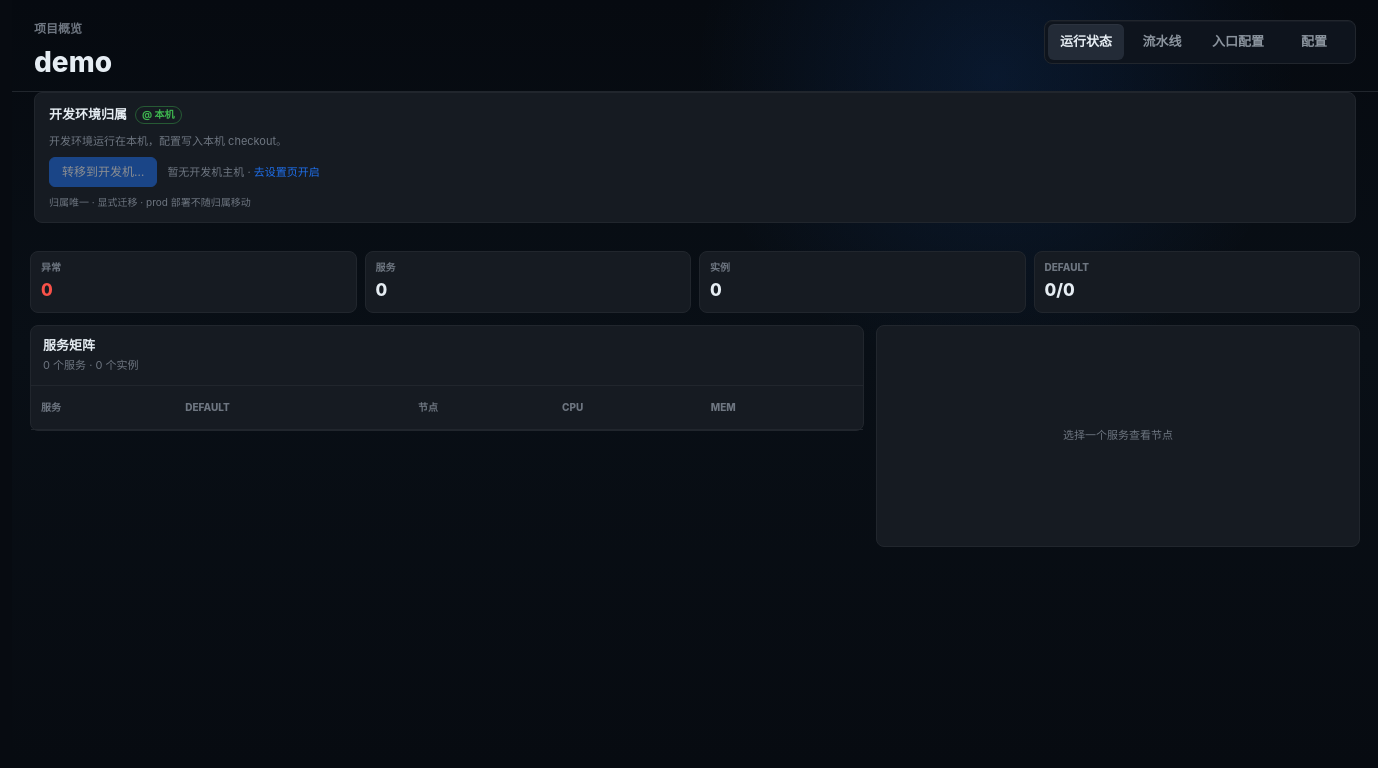
Test case: ProjectOverviewPage › switches to project ingress tab
Step 1. Click the button with test id "overview-tab-ingress" → (1238,42), box [1200,24,1276,60]
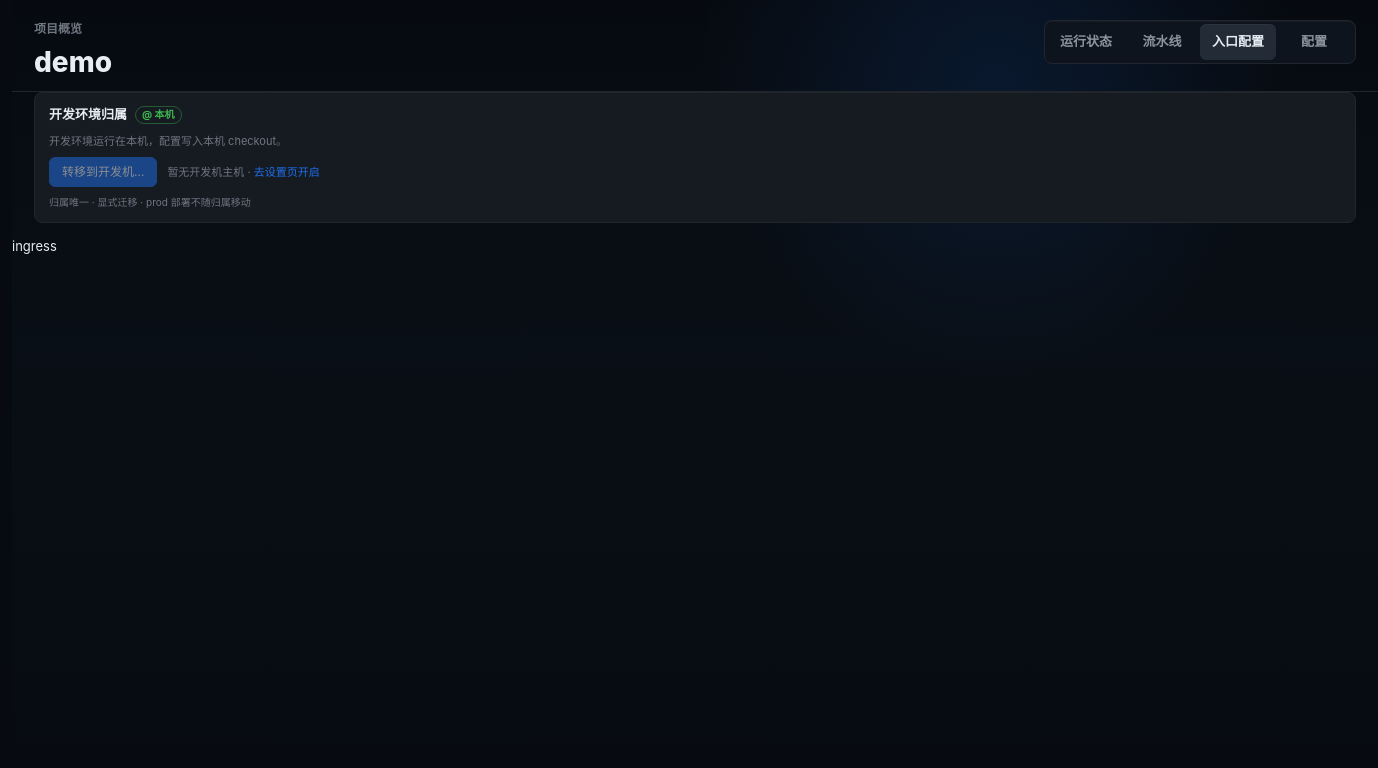
Expected: the text "ingress" is shown, [12,238,57,254]
